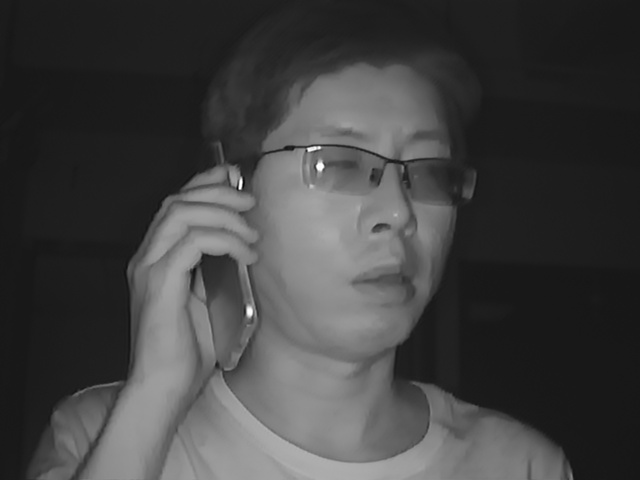hand: (123, 170, 258, 364)
